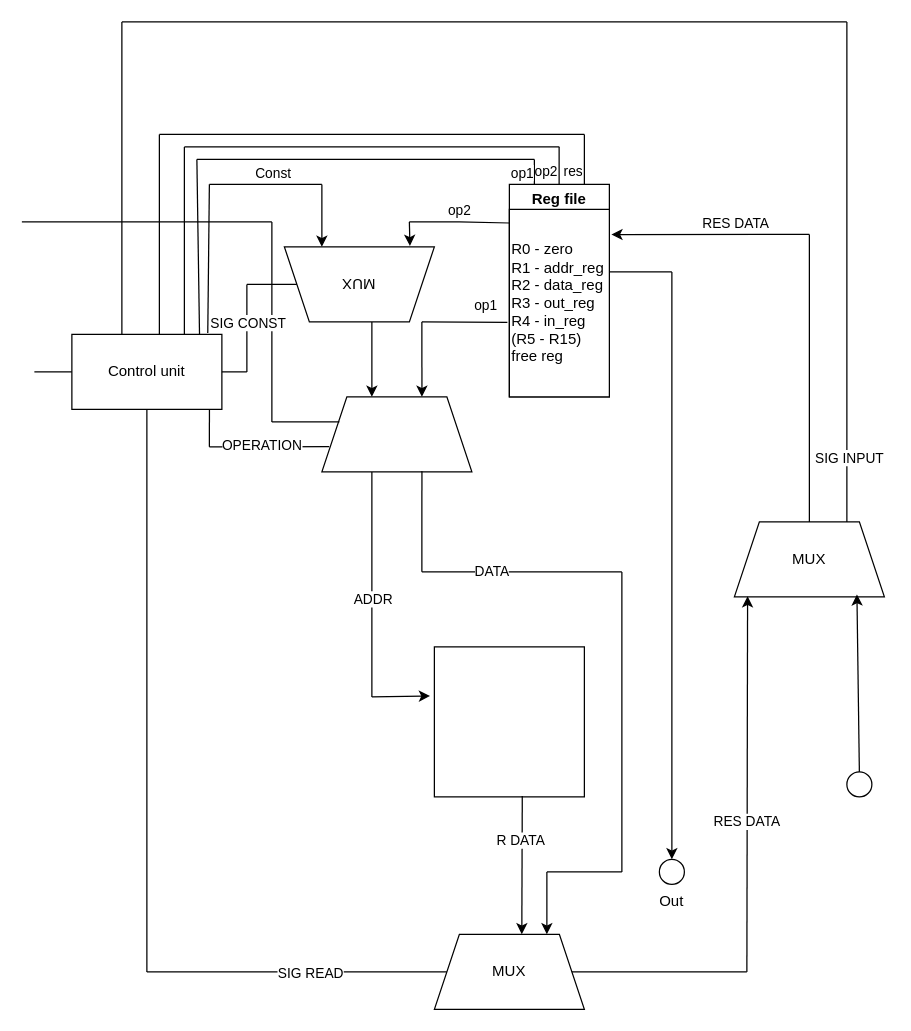
The diagram is 911 pixels wide and 1031 high, and some of its shapes have lost their labels. Each missing label, with the centre of its shape:
"ALU" belongs at pixel 396 434.
"Data memory" belongs at pixel 508 721.
"IN" belongs at pixel 859 784.
